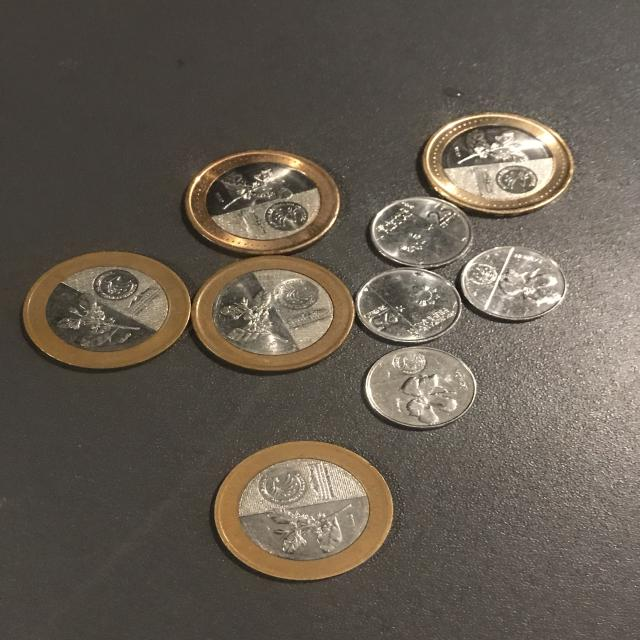20_New_Back: (212, 282, 290, 354), (264, 492, 352, 554), (52, 289, 143, 346), (207, 162, 306, 208)
25Cent_New_Back: (396, 365, 460, 428), (496, 261, 566, 305)
25Cent_New_Front: (360, 297, 410, 340), (424, 198, 466, 228)
